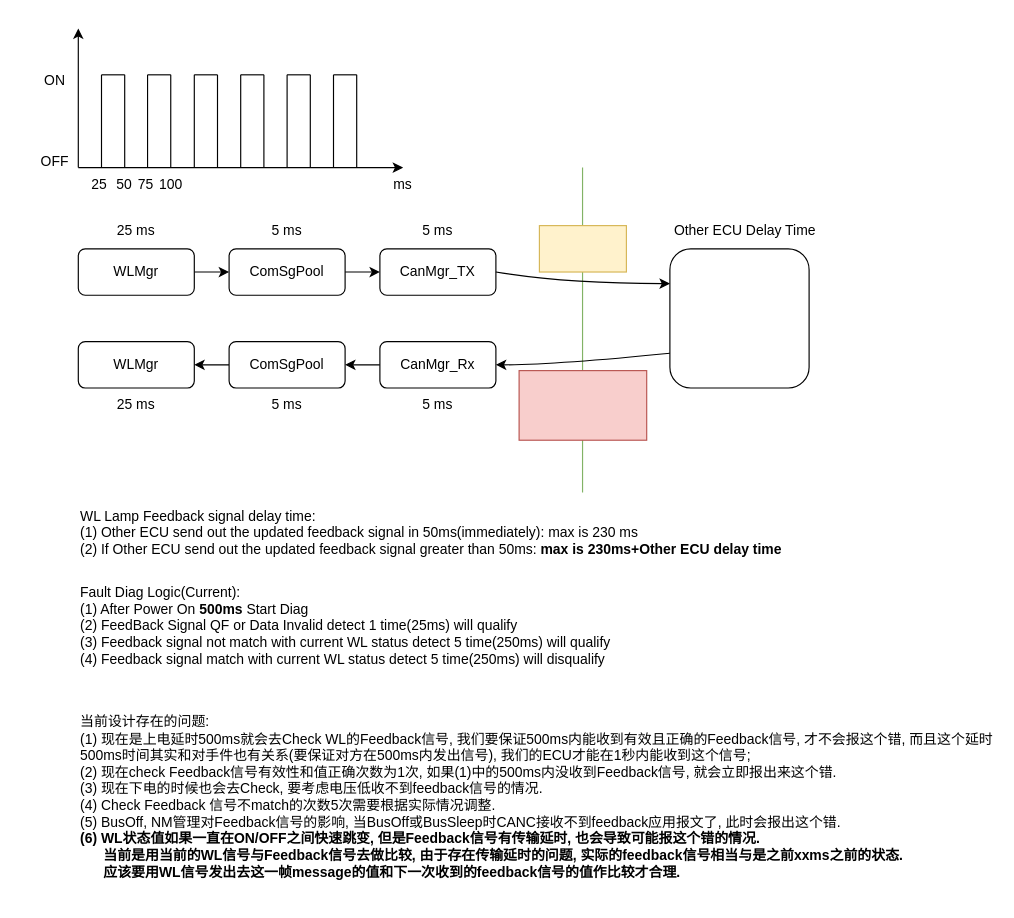
Some shapes in this 1014 by 918 pixel diagram are drawn without their labels. Each missing label, with the centre of its shape:
"100 ms Send WL Signal" belongs at (582,248).
"50 ms Recv FeedBack WL Signal, Maybe >50ms" belongs at (582,404).
"Other ECU" belongs at (739,318).
